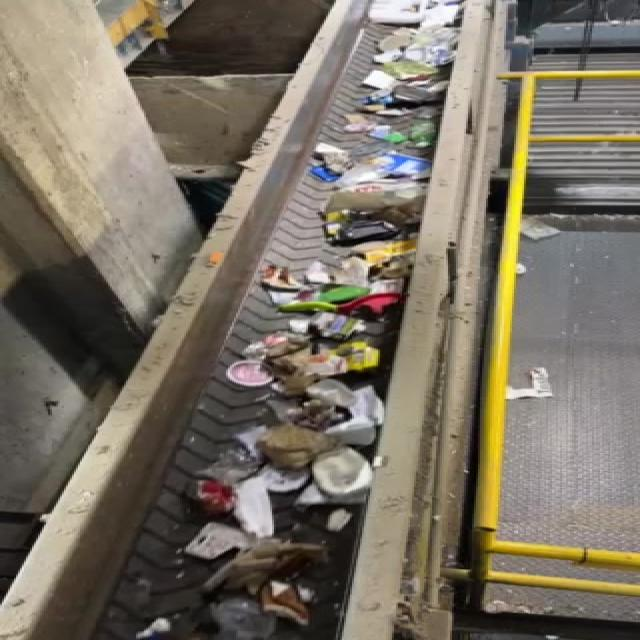metal: (180, 475, 248, 518)
ps: (302, 451, 382, 506)
